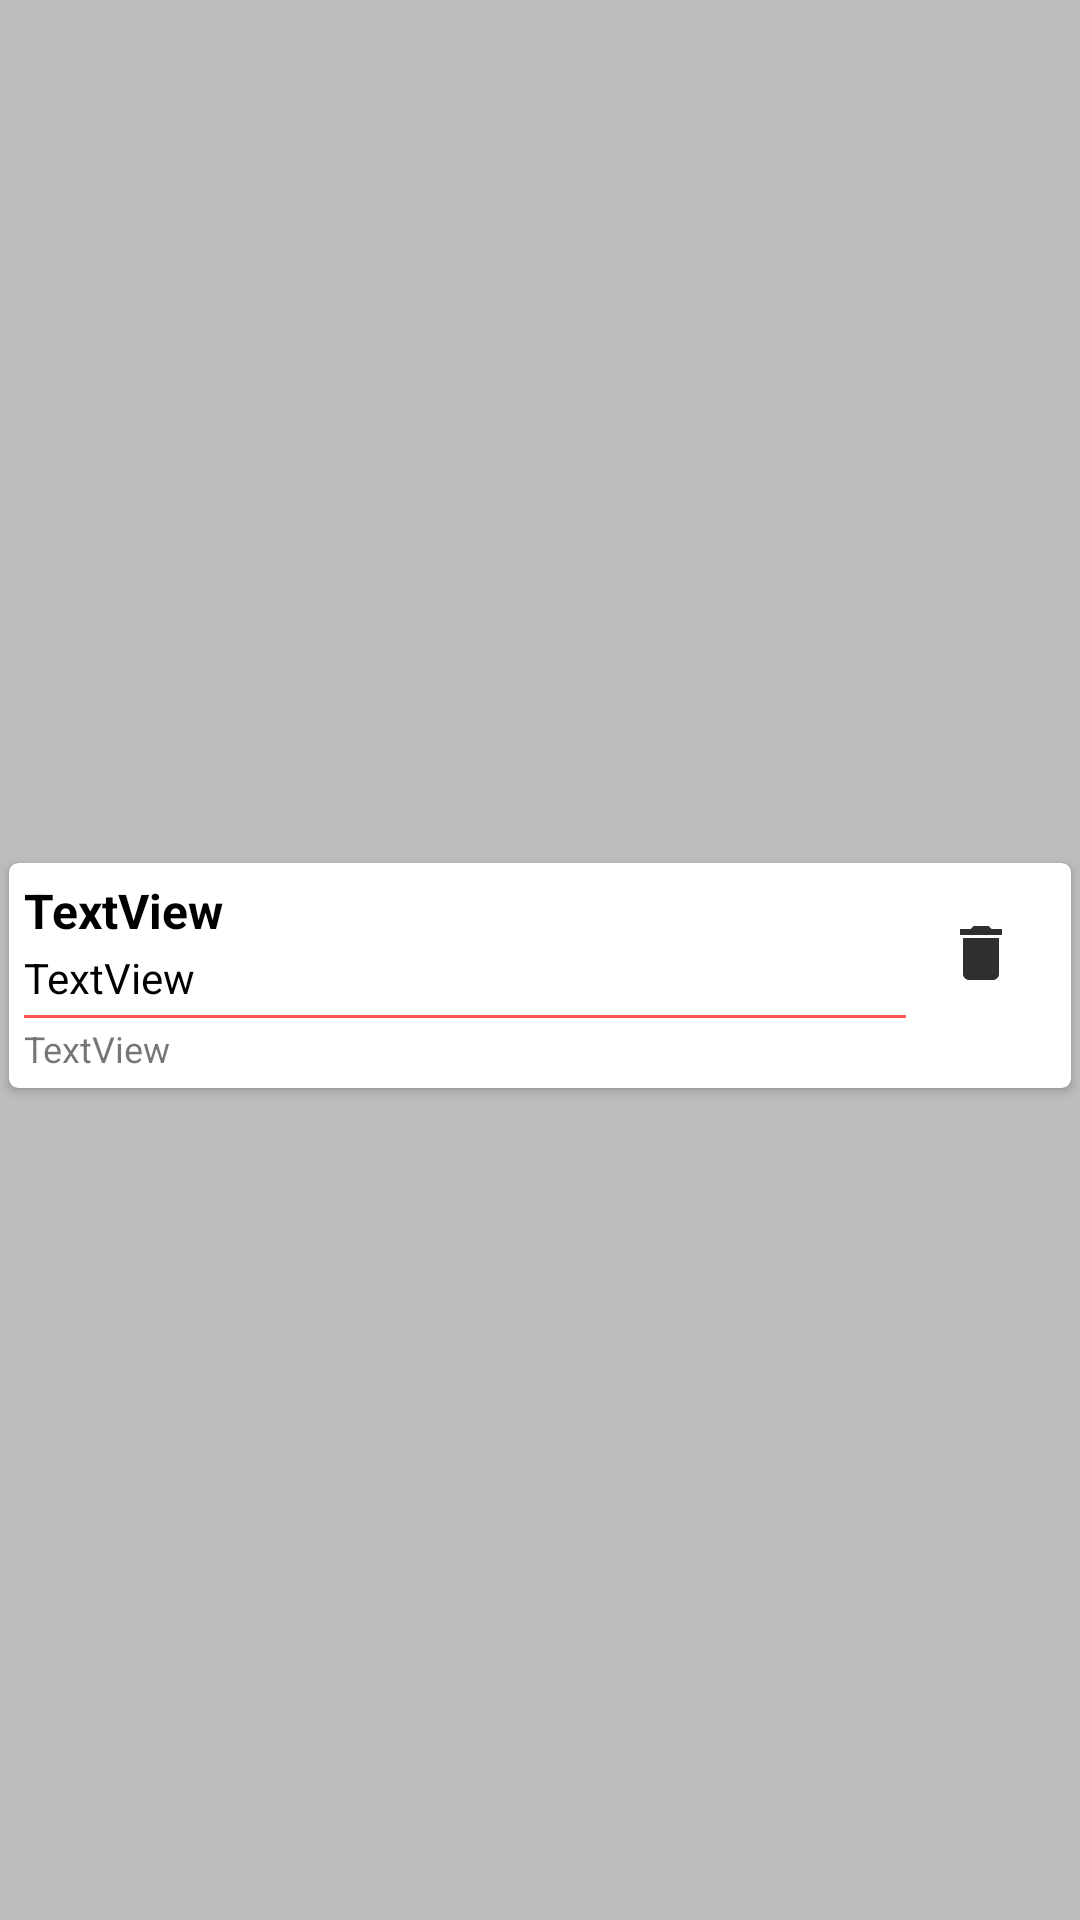

Icon bounding boxes for this 1080px×1920px phone screenshot, format (x1, y1, x2, y2):
delete: (960, 926, 1002, 980)
